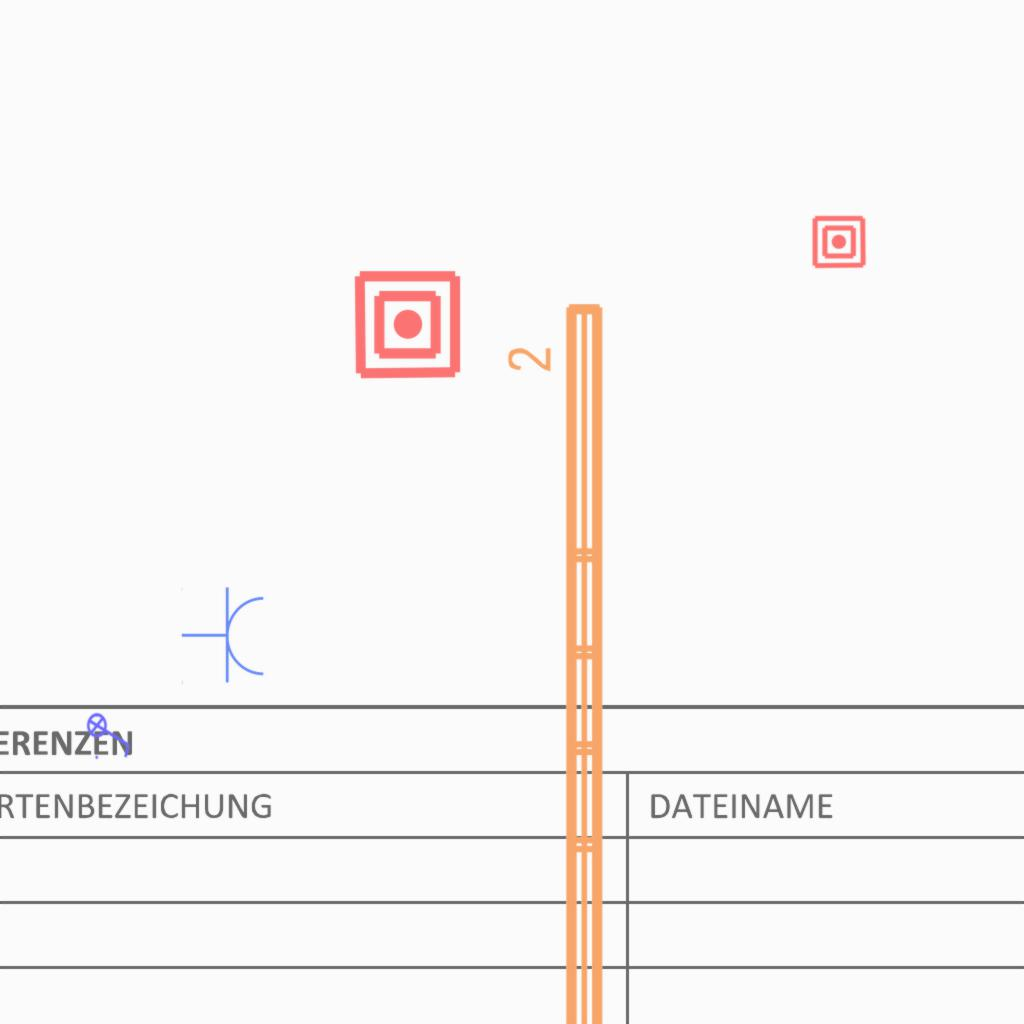Ambulanz_Pendelleuchte_LED: (503, 295, 615, 1024)
Ausschalter_beleuchtet: (86, 706, 134, 762)
NAM-Nichtautomatischer_Melder: (351, 268, 464, 381), (811, 214, 867, 270)
Schukosteckdose_einfach: (181, 586, 268, 686)
